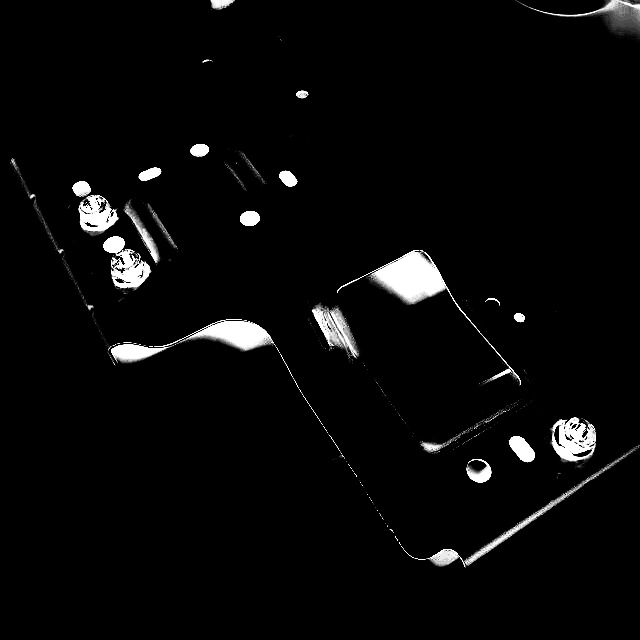dog: (548, 413, 599, 463), (76, 192, 120, 233), (108, 248, 152, 289)
